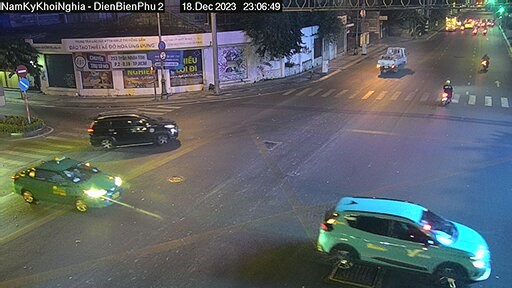car: (315, 183, 491, 285), (9, 149, 133, 215), (81, 99, 193, 151)
motorbike: (433, 79, 459, 103), (473, 53, 497, 72)
truck: (373, 45, 420, 78)
